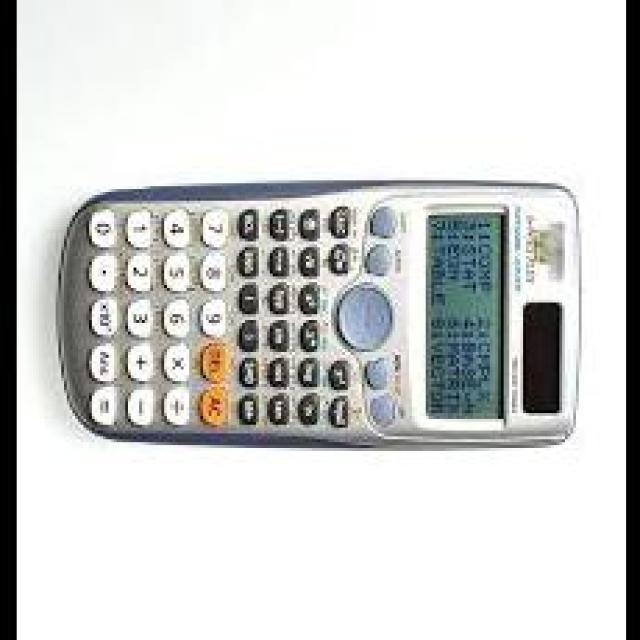Calculator: (50, 148, 601, 483)
